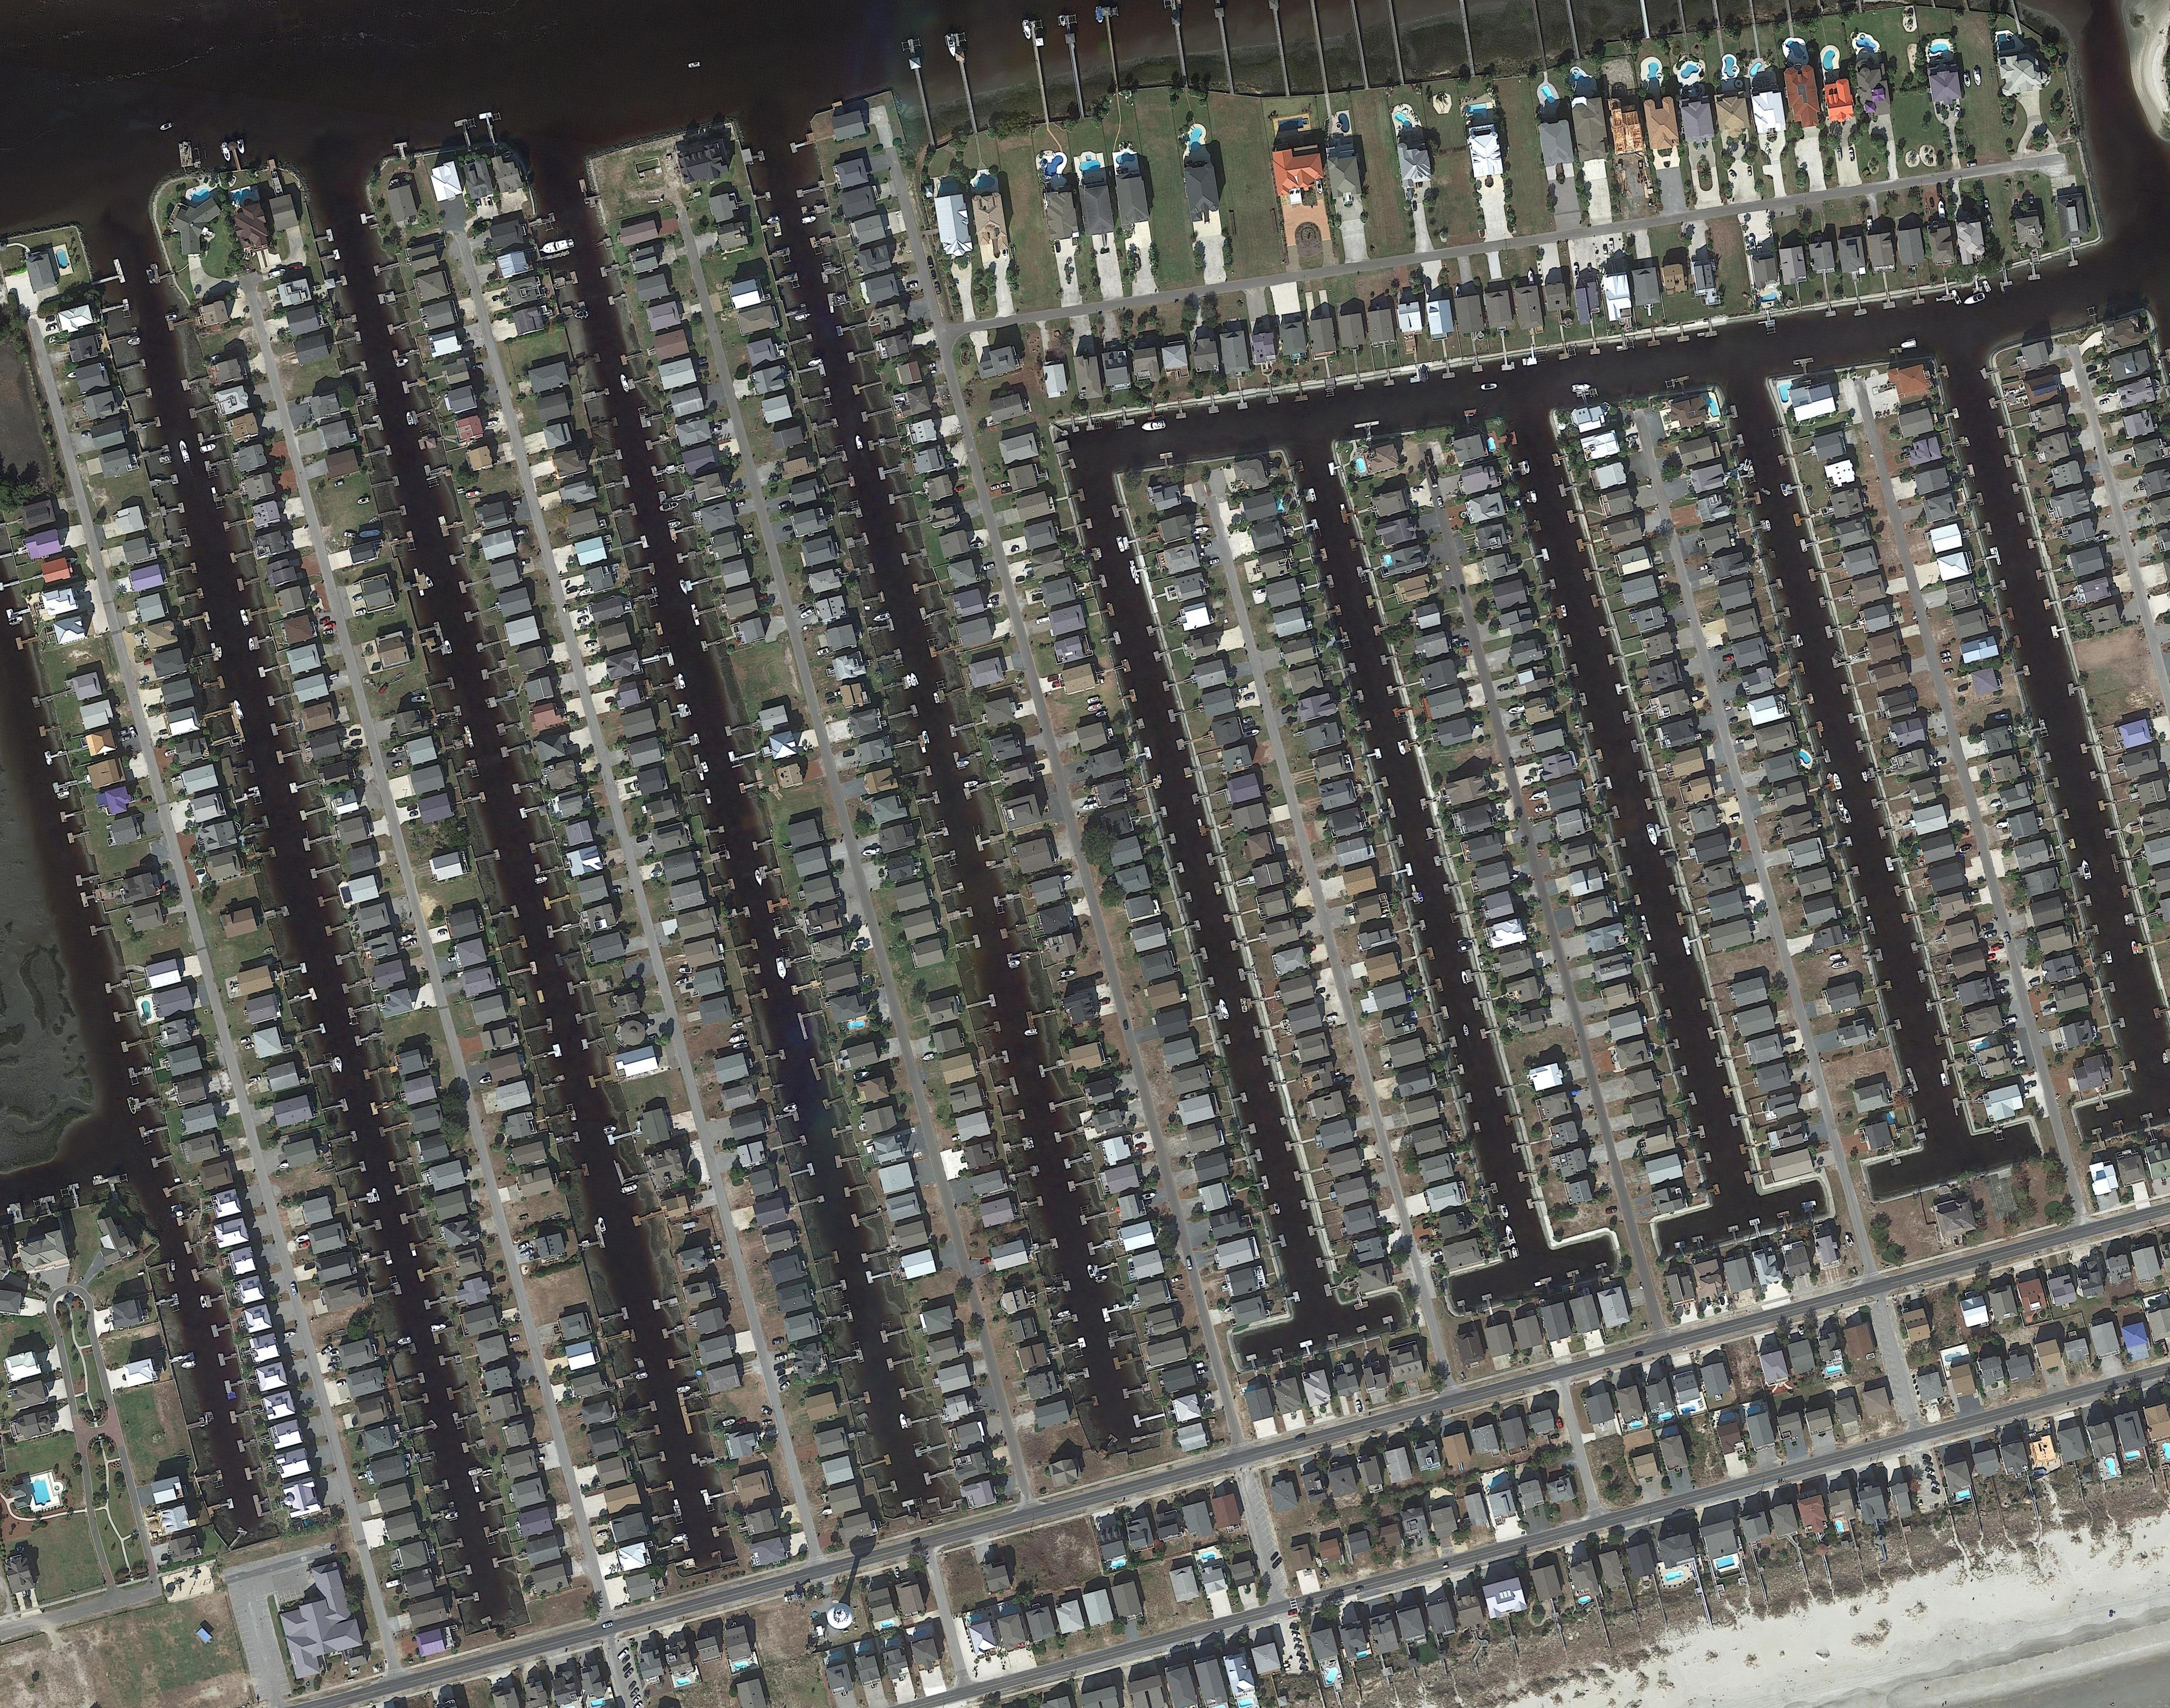harbor: (944, 32, 981, 127), (905, 39, 939, 141), (1059, 14, 1089, 102), (1029, 19, 1055, 114), (1162, 0, 1194, 77), (1212, 0, 1238, 90), (1101, 5, 1127, 88), (204, 701, 247, 752), (1268, 0, 1293, 85), (1349, 0, 1370, 88), (1309, 0, 1328, 90), (1386, 0, 1406, 85), (1458, 0, 1476, 76), (1531, 0, 1548, 70), (613, 1152, 648, 1187), (86, 259, 125, 291), (417, 622, 447, 660), (1564, 0, 1582, 60), (92, 1174, 125, 1203), (576, 1224, 606, 1254), (808, 1053, 837, 1081), (895, 734, 926, 759), (546, 917, 581, 939), (477, 111, 498, 146), (676, 1393, 694, 1435), (690, 599, 719, 625), (1027, 1007, 1059, 1030), (974, 829, 1006, 852), (361, 1248, 393, 1271), (347, 1002, 379, 1025), (1048, 1093, 1085, 1113), (32, 688, 69, 708), (641, 652, 675, 673), (1133, 1407, 1164, 1428), (523, 1018, 555, 1039), (923, 1465, 955, 1486), (439, 512, 465, 537), (150, 259, 176, 283), (824, 289, 851, 313), (148, 1263, 174, 1287), (513, 777, 541, 799), (481, 659, 509, 681), (963, 780, 993, 801), (935, 683, 965, 704), (210, 482, 240, 504), (287, 986, 317, 1007), (851, 1208, 881, 1229), (701, 1484, 731, 1506), (379, 287, 414, 305), (659, 1539, 690, 1558), (632, 1208, 664, 1227), (655, 1498, 682, 1521), (409, 1236, 437, 1257), (618, 1359, 646, 1380), (835, 319, 868, 336), (532, 1044, 562, 1064), (498, 935, 528, 954), (507, 961, 537, 981), (500, 741, 530, 761), (387, 1342, 417, 1361), (454, 118, 474, 148), (599, 1307, 629, 1326), (650, 458, 680, 477), (139, 1120, 169, 1139), (995, 1076, 1018, 1101), (472, 1470, 497, 1493), (225, 1527, 248, 1551), (888, 704, 919, 722), (227, 141, 245, 173), (107, 326, 139, 343), (310, 863, 342, 880), (303, 833, 335, 850), (916, 1440, 948, 1458), (690, 1449, 717, 1470), (122, 1035, 153, 1053), (974, 1020, 1002, 1039), (1103, 1303, 1131, 1322), (520, 803, 548, 822), (535, 858, 564, 877), (555, 947, 583, 967), (488, 688, 516, 708), (428, 676, 456, 696), (197, 428, 225, 447), (354, 1217, 382, 1236), (837, 1349, 865, 1368), (886, 1352, 914, 1372), (653, 676, 682, 696), (134, 1092, 162, 1111), (187, 1410, 215, 1430), (967, 995, 997, 1012), (1055, 1125, 1085, 1143), (902, 766, 932, 784), (953, 747, 983, 764), (1113, 1352, 1143, 1370), (444, 1564, 474, 1581), (396, 1372, 426, 1389), (181, 611, 211, 629), (116, 359, 146, 377), (289, 777, 319, 794), (379, 1120, 409, 1137), (329, 1130, 359, 1148), (907, 1412, 937, 1430), (861, 1454, 891, 1472), (861, 405, 891, 423), (852, 377, 882, 394), (631, 1425, 661, 1442), (627, 1400, 657, 1417), (657, 488, 687, 505), (224, 1377, 247, 1400), (868, 618, 895, 637), (919, 602, 946, 622), (898, 1382, 925, 1402), (789, 1162, 816, 1182), (551, 271, 578, 291), (622, 535, 648, 555), (611, 502, 638, 521), (1007, 947, 1039, 963), (955, 935, 983, 953), (410, 1419, 439, 1437), (491, 905, 520, 923), (528, 836, 557, 854), (542, 891, 571, 909), (497, 718, 525, 736), (150, 474, 178, 491), (181, 373, 210, 391), (338, 1160, 366, 1178), (373, 1284, 402, 1301), (370, 1097, 398, 1115), (798, 364, 826, 382), (847, 347, 875, 364), (810, 231, 838, 248), (724, 720, 752, 738), (1354, 421, 1383, 438), (1009, 1136, 1034, 1155), (916, 791, 941, 810), (410, 405, 435, 424), (424, 460, 449, 479), (324, 1097, 349, 1116), (417, 1263, 442, 1282), (689, 789, 713, 808), (252, 1493, 271, 1518), (1080, 1210, 1110, 1226), (1108, 1333, 1138, 1349), (414, 567, 430, 597), (354, 1030, 384, 1046), (868, 435, 898, 451), (796, 181, 826, 197), (1039, 1060, 1066, 1078), (949, 720, 976, 738), (882, 676, 909, 694), (1089, 1238, 1115, 1255), (336, 331, 363, 349), (393, 343, 419, 361), (417, 433, 444, 451), (403, 1393, 430, 1410), (432, 1502, 458, 1520), (229, 548, 255, 565), (136, 416, 162, 433), (234, 785, 261, 803), (349, 1192, 375, 1210), (400, 1208, 426, 1226), (312, 1060, 338, 1078), (299, 1023, 326, 1041), (342, 977, 368, 995), (264, 905, 291, 923), (828, 1310, 854, 1328), (819, 266, 845, 283), (601, 261, 627, 278), (669, 523, 696, 541), (53, 777, 79, 794), (1941, 1058, 1959, 1085), (197, 1469, 224, 1486), (1067, 1176, 1096, 1192), (993, 891, 1022, 907), (1934, 280, 1955, 301), (1636, 916, 1652, 944), (340, 361, 368, 377), (372, 475, 400, 491), (379, 505, 407, 521), (204, 456, 232, 472), (143, 444, 171, 460), (188, 403, 217, 419), (125, 387, 153, 403), (299, 805, 328, 821), (363, 1064, 391, 1079), (801, 202, 830, 218), (528, 213, 557, 229), (639, 1451, 668, 1467), (652, 1294, 680, 1310), (727, 747, 756, 762), (127, 1064, 155, 1079), (1811, 745, 1832, 766), (1534, 1277, 1555, 1298), (361, 416, 384, 435), (1400, 884, 1420, 907), (941, 882, 965, 900), (476, 849, 500, 866), (437, 704, 461, 722), (389, 530, 414, 548), (245, 604, 269, 622), (271, 718, 296, 736), (277, 747, 301, 764), (423, 1294, 447, 1312), (816, 1250, 840, 1268), (865, 1266, 889, 1284), (879, 1326, 904, 1344), (773, 923, 798, 940), (734, 937, 759, 954), (775, 1109, 800, 1127), (835, 1152, 860, 1169), (565, 1164, 590, 1182), (608, 1129, 632, 1146), (631, 562, 655, 579), (606, 475, 631, 493), (44, 747, 69, 764), (16, 632, 41, 650), (155, 1292, 180, 1310), (1131, 1430, 1161, 1444), (546, 1109, 576, 1123), (1997, 266, 2013, 292), (928, 643, 955, 659), (373, 261, 400, 276), (453, 1409, 479, 1425), (476, 637, 502, 653), (167, 315, 194, 331), (324, 921, 351, 937), (791, 979, 817, 995), (782, 1136, 808, 1152), (830, 475, 856, 491), (912, 579, 939, 595), (632, 586, 659, 602), (676, 548, 703, 563), (1904, 1067, 1920, 1093), (76, 872, 102, 887), (39, 1196, 58, 1217), (164, 1180, 185, 1199), (1339, 502, 1358, 523), (1804, 720, 1825, 740), (986, 1049, 1009, 1067), (454, 759, 477, 777), (252, 632, 275, 650), (238, 574, 261, 592), (232, 761, 255, 778), (203, 676, 225, 694), (247, 815, 269, 833), (588, 1071, 611, 1088), (823, 1093, 845, 1111), (879, 463, 902, 481), (808, 386, 831, 403), (727, 905, 750, 923), (662, 1322, 685, 1340), (7, 602, 30, 620), (217, 1349, 240, 1366), (1379, 798, 1397, 821), (1450, 907, 1472, 924), (100, 299, 129, 313), (925, 826, 949, 842), (1046, 1280, 1071, 1296), (877, 648, 902, 664), (461, 1437, 486, 1453), (479, 1497, 504, 1513), (440, 1537, 465, 1553), (461, 791, 486, 806), (432, 1328, 456, 1344), (268, 690, 292, 706), (387, 1157, 412, 1173), (284, 963, 308, 979), (335, 951, 359, 967), (581, 1034, 606, 1049), (844, 1182, 868, 1197), (889, 490, 914, 505), (895, 518, 919, 534), (562, 301, 587, 317), (668, 1354, 692, 1370), (620, 350, 645, 366), (701, 636, 726, 652), (576, 352, 601, 368), (685, 576, 710, 592), (599, 449, 624, 465), (646, 435, 671, 451), (639, 412, 664, 428), (113, 1007, 137, 1023), (1497, 431, 1518, 449), (1599, 805, 1620, 822), (1744, 1167, 1765, 1185), (1677, 1092, 1698, 1109), (1802, 1201, 1819, 1222), (199, 646, 220, 664), (784, 954, 810, 968), (761, 222, 782, 239), (766, 896, 787, 914), (583, 387, 609, 401), (231, 1407, 252, 1425), (211, 1321, 232, 1338), (1303, 518, 1321, 539), (1064, 1153, 1087, 1169), (1015, 1166, 1037, 1182), (1076, 1395, 1099, 1410), (1067, 1366, 1090, 1382), (1064, 1336, 1087, 1352), (2036, 565, 2059, 581), (387, 319, 410, 335), (447, 1384, 470, 1400), (491, 1553, 514, 1569), (370, 445, 393, 461), (567, 979, 590, 995), (576, 1009, 599, 1025), (439, 1352, 461, 1368), (174, 562, 197, 578), (849, 1391, 872, 1407), (824, 451, 847, 467), (840, 507, 863, 523), (863, 592, 886, 607), (712, 879, 734, 894), (652, 1481, 675, 1497), (67, 828, 90, 843), (932, 849, 956, 863), (1053, 1314, 1078, 1328), (1094, 1261, 1118, 1275), (444, 734, 469, 748), (224, 518, 248, 532), (317, 893, 342, 907), (861, 1248, 886, 1263), (823, 1280, 847, 1294), (798, 1196, 826, 1208), (796, 1012, 808, 1041), (542, 250, 571, 262), (606, 1329, 631, 1344), (673, 736, 697, 750), (627, 375, 652, 389), (60, 808, 85, 822), (69, 1183, 83, 1208), (171, 1351, 196, 1365), (1520, 347, 1538, 366), (1730, 1109, 1749, 1127), (1687, 1125, 1707, 1143), (1714, 1049, 1733, 1067), (1677, 909, 1696, 926), (1673, 375, 1693, 393), (1997, 423, 2017, 440), (2004, 451, 2024, 468), (2017, 509, 2036, 526), (2066, 680, 2085, 697), (1983, 548, 2001, 567), (359, 380, 377, 400), (1885, 854, 1904, 872), (1332, 625, 1349, 644), (1488, 1204, 1506, 1224), (1696, 322, 1717, 338), (1037, 1238, 1059, 1254), (1777, 1211, 1793, 1233), (2011, 479, 2033, 495), (1300, 1196, 1321, 1211), (1793, 357, 1814, 373), (458, 578, 479, 593), (259, 662, 280, 678), (171, 535, 192, 551), (255, 845, 277, 861), (742, 963, 763, 979), (749, 988, 770, 1004), (877, 1481, 898, 1497), (817, 417, 838, 433), (902, 549, 923, 565), (740, 778, 761, 794), (9, 1203, 25, 1224), (204, 1292, 225, 1308), (1518, 1167, 1539, 1183), (692, 755, 705, 782), (1002, 1109, 1025, 1123), (2064, 245, 2078, 268), (1464, 410, 1478, 433), (326, 275, 349, 289), (426, 1479, 449, 1493), (484, 1523, 507, 1537), (456, 1592, 479, 1606), (786, 303, 808, 317), (775, 273, 798, 287), (768, 247, 791, 261), (1906, 1118, 1929, 1132), (39, 724, 62, 738), (151, 1153, 174, 1167), (1147, 405, 1164, 423), (1758, 312, 1775, 329), (1090, 574, 1108, 592), (1214, 879, 1231, 896), (1113, 659, 1131, 676), (1532, 548, 1550, 565), (1760, 548, 1777, 565), (1819, 777, 1837, 794), (1418, 947, 1436, 965), (1317, 574, 1335, 592), (1432, 1005, 1450, 1023), (1103, 1433, 1118, 1453), (1538, 578, 1557, 593), (1585, 748, 1605, 764), (1576, 389, 1592, 409), (1723, 1083, 1742, 1099), (1640, 953, 1659, 968), (1989, 394, 2008, 410), (2112, 852, 2128, 872), (1325, 1282, 1344, 1298), (1268, 1234, 1288, 1250), (1286, 460, 1305, 475), (315, 229, 335, 245), (402, 379, 421, 394), (166, 502, 185, 518), (104, 979, 123, 995), (1952, 1097, 1967, 1116), (245, 1465, 264, 1481), (238, 1437, 257, 1453), (1841, 680, 1860, 696), (1856, 738, 1876, 754), (1504, 1111, 1524, 1127), (789, 333, 814, 345), (1501, 350, 1515, 372), (1154, 648, 1175, 662), (1853, 296, 1867, 317), (1124, 1386, 1145, 1400), (1293, 1167, 1314, 1182), (183, 588, 204, 602), (766, 1049, 787, 1064), (791, 139, 812, 153), (675, 1558, 696, 1572), (597, 417, 618, 431), (1901, 910, 1922, 924), (1832, 836, 1853, 850), (1052, 423, 1069, 438), (1111, 502, 1129, 518), (1122, 534, 1138, 551), (1293, 384, 1309, 401), (1129, 563, 1147, 579), (1192, 947, 1208, 965), (1147, 622, 1164, 637), (1245, 995, 1263, 1011), (1208, 1005, 1224, 1023), (1168, 706, 1185, 722), (1583, 565, 1601, 581), (1591, 592, 1608, 607), (1622, 710, 1640, 725), (1777, 451, 1795, 467), (1793, 511, 1811, 526), (1568, 507, 1585, 523), (1552, 451, 1569, 467), (1511, 461, 1527, 479), (1559, 481, 1576, 497), (1594, 777, 1612, 792), (1700, 995, 1717, 1011), (1654, 821, 1672, 836), (2050, 623, 2068, 639), (1254, 1174, 1270, 1192), (2121, 882, 2138, 898), (1976, 521, 1992, 539), (465, 607, 483, 623), (1878, 824, 1895, 840), (1934, 1028, 1950, 1046), (1911, 939, 1929, 954), (1925, 997, 1943, 1012), (192, 1266, 210, 1282), (1865, 766, 1883, 782), (1395, 863, 1413, 879), (1388, 833, 1404, 850), (1427, 979, 1444, 995), (1402, 738, 1420, 754), (1374, 622, 1391, 637), (1365, 593, 1383, 609), (1472, 995, 1490, 1011), (1809, 565, 1827, 581), (1781, 636, 1798, 652), (1798, 692, 1816, 708), (1647, 328, 1661, 347), (1222, 910, 1242, 924), (1881, 291, 1895, 310), (1025, 1196, 1044, 1210), (2026, 262, 2040, 282), (1229, 1092, 1249, 1106), (1284, 1137, 1303, 1152), (1638, 768, 1657, 782), (1645, 796, 1664, 810), (1749, 1218, 1763, 1238), (2043, 595, 2063, 609), (1307, 1222, 1326, 1236), (321, 250, 340, 264), (712, 1523, 731, 1537), (81, 889, 95, 909), (1893, 882, 1913, 896), (1874, 981, 1893, 995), (1871, 796, 1890, 810), (1363, 748, 1383, 762), (1434, 852, 1453, 866), (1443, 880, 1462, 894), (1393, 704, 1413, 718), (1386, 681, 1406, 696), (1379, 652, 1399, 666), (1848, 710, 1867, 724), (1511, 1139, 1531, 1153), (1495, 1083, 1515, 1097), (1480, 1025, 1499, 1039), (1236, 389, 1249, 410), (752, 838, 773, 850), (92, 923, 113, 935), (1159, 453, 1175, 468), (1069, 488, 1085, 504), (1099, 602, 1115, 618), (1238, 965, 1254, 981), (1185, 919, 1201, 935), (1252, 1023, 1268, 1039), (1207, 850, 1222, 866), (1122, 688, 1138, 704), (1106, 630, 1122, 646), (1564, 664, 1580, 680), (1557, 634, 1573, 650), (1576, 537, 1592, 553), (1631, 738, 1647, 754), (1525, 519, 1541, 535), (1800, 537, 1816, 553), (1746, 491, 1761, 507), (1707, 1025, 1723, 1041), (1730, 433, 1746, 449), (1300, 1340, 1316, 1356), (1247, 1148, 1263, 1164), (2015, 664, 2031, 680), (1969, 491, 1985, 507), (1982, 364, 1997, 380), (2140, 1113, 2156, 1129), (926, 1497, 942, 1513), (852, 532, 868, 548), (648, 622, 664, 637), (1860, 921, 1876, 937), (1867, 947, 1883, 963), (1918, 968, 1934, 984), (218, 1497, 234, 1513), (1349, 688, 1365, 704), (1312, 548, 1328, 563), (1825, 623, 1841, 639), (1790, 662, 1805, 678), (1832, 653, 1848, 669), (1566, 1270, 1582, 1285), (1265, 387, 1279, 405), (1076, 518, 1094, 532), (1168, 863, 1185, 877), (1199, 822, 1217, 836), (1143, 778, 1161, 792), (1177, 736, 1194, 750), (1162, 678, 1180, 692), (1911, 287, 1925, 305), (1599, 623, 1617, 637), (1694, 1152, 1712, 1166), (1656, 1009, 1673, 1023), (1649, 983, 1666, 997), (1682, 935, 1700, 949), (1624, 894, 1642, 909), (1610, 836, 1627, 850), (1326, 1333, 1340, 1351), (1316, 1254, 1333, 1268), (2008, 634, 2022, 652), (2112, 1118, 2126, 1136), (2152, 1005, 2170, 1020), (2137, 940, 2154, 954), (449, 551, 467, 565), (609, 292, 627, 306), (757, 865, 775, 879), (669, 706, 687, 720), (1851, 896, 1869, 910), (1885, 1020, 1902, 1034), (1372, 777, 1390, 791), (1420, 796, 1437, 810), (1409, 919, 1427, 933), (1774, 607, 1791, 622), (1481, 1292, 1495, 1310), (1455, 1092, 1472, 1106), (1615, 333, 1627, 352), (1407, 364, 1420, 384), (1268, 1079, 1288, 1092), (712, 1550, 724, 1569), (1120, 409, 1134, 424), (1060, 458, 1076, 472), (1085, 548, 1099, 563), (1441, 363, 1455, 379), (1177, 891, 1192, 905), (1199, 975, 1215, 990), (1215, 1034, 1231, 1048), (1261, 1053, 1277, 1067), (1161, 833, 1177, 847), (1192, 791, 1208, 805), (1138, 747, 1152, 762), (1000, 926, 1016, 940), (1548, 607, 1564, 622), (1608, 652, 1624, 666), (1615, 681, 1631, 696), (1573, 692, 1587, 708), (1578, 722, 1594, 736), (1786, 481, 1802, 495), (1753, 519, 1768, 534), (1705, 1183, 1721, 1197), (1691, 1234, 1705, 1250), (1728, 1224, 1742, 1240), (1672, 1065, 1687, 1079), (1668, 882, 1684, 896), (1245, 1354, 1259, 1370), (1272, 1349, 1286, 1365), (1353, 1296, 1369, 1310), (2105, 826, 2121, 840), (2031, 718, 2047, 733), (1999, 607, 2015, 622), (2128, 912, 2144, 926), (1952, 435, 1967, 449), (2036, 752, 2052, 766), (2045, 777, 2061, 791), (2054, 808, 2070, 822), (2070, 866, 2085, 880), (2077, 894, 2092, 909), (2091, 1127, 2105, 1143), (395, 1182, 410, 1196), (831, 1125, 847, 1139), (902, 1498, 916, 1514), (860, 563, 875, 578), (1298, 488, 1312, 504), (185, 1240, 201, 1254), (1427, 826, 1443, 840), (1356, 720, 1372, 734), (1326, 604, 1342, 618), (1349, 537, 1365, 551), (1465, 968, 1481, 983), (1594, 1263, 1610, 1277), (1768, 578, 1784, 592), (1527, 1196, 1543, 1210), (1483, 1182, 1499, 1196), (1450, 1064, 1465, 1078), (1443, 1035, 1458, 1049), (1677, 326, 1689, 343), (1353, 373, 1365, 391), (1471, 356, 1483, 373), (1383, 368, 1395, 386), (1240, 1123, 1258, 1136), (1663, 1039, 1680, 1051), (2087, 306, 2100, 324), (1383, 1315, 1395, 1333), (562, 1132, 579, 1145), (1842, 866, 1860, 879), (1458, 935, 1476, 947), (705, 826, 724, 836), (1154, 806, 1168, 821), (1518, 491, 1532, 505), (1619, 865, 1633, 879), (2027, 535, 2041, 549), (1286, 1291, 1300, 1305), (1994, 579, 2008, 593), (1962, 465, 1976, 479), (1888, 347, 1902, 361), (2094, 1097, 2108, 1111), (1328, 461, 1342, 475), (1342, 662, 1356, 676), (1207, 398, 1219, 414), (1175, 403, 1187, 419), (1557, 343, 1569, 359), (1229, 939, 1245, 951), (1184, 766, 1199, 778), (1129, 718, 1145, 731), (1973, 278, 1985, 294), (1738, 1143, 1754, 1155), (1675, 1241, 1687, 1257), (2080, 741, 2096, 754), (2091, 769, 2107, 782), (2098, 799, 2114, 812), (1356, 1326, 1369, 1342), (1945, 409, 1960, 421), (2100, 983, 2115, 995), (361, 211, 377, 224), (756, 192, 771, 204), (1356, 565, 1372, 578), (1085, 414, 1096, 431), (1825, 303, 1837, 317), (960, 907, 974, 919), (1726, 405, 1738, 419), (1261, 1204, 1275, 1217), (1936, 364, 1948, 379), (2063, 838, 2077, 850), (2085, 924, 2100, 937), (2092, 953, 2107, 965), (2112, 1018, 2126, 1030), (2122, 1060, 2137, 1072), (481, 1616, 493, 1631), (752, 151, 766, 164), (1888, 1152, 1901, 1166), (176, 1215, 190, 1227), (1819, 595, 1834, 607), (579, 180, 588, 199), (1281, 1115, 1296, 1125), (342, 313, 358, 324), (1071, 416, 1080, 433), (719, 850, 731, 863), (1591, 342, 1601, 356), (1457, 1299, 1467, 1314), (1501, 1250, 1513, 1261), (1499, 1236, 1509, 1248), (1659, 847, 1673, 856)
ship: (539, 239, 574, 255), (1217, 997, 1231, 1020), (232, 699, 247, 720), (1964, 292, 1987, 305), (775, 956, 787, 979), (1645, 824, 1657, 847), (2080, 858, 2092, 880), (178, 438, 190, 461), (1140, 421, 1166, 431), (1502, 1226, 1517, 1245), (1832, 771, 1844, 792), (659, 500, 680, 512), (946, 33, 956, 58), (1569, 382, 1592, 393), (852, 1069, 872, 1081), (727, 1034, 747, 1046), (268, 266, 287, 278), (127, 1095, 139, 1115), (220, 141, 231, 162), (1531, 791, 1548, 803), (576, 586, 594, 599), (794, 310, 812, 322), (669, 1532, 687, 1544), (1899, 338, 1918, 349), (1508, 706, 1527, 717), (1830, 960, 1849, 970), (620, 373, 631, 393), (620, 1183, 639, 1194), (240, 607, 250, 627), (199, 444, 218, 454), (860, 849, 882, 858), (359, 530, 382, 539), (800, 607, 816, 620), (396, 931, 412, 944), (1937, 199, 1946, 220), (678, 578, 689, 595), (1022, 19, 1030, 40), (807, 357, 824, 368), (465, 490, 483, 500), (428, 1322, 446, 1333), (333, 1056, 343, 1074), (1974, 67, 1983, 86), (1059, 968, 1078, 977), (754, 868, 763, 887), (872, 613, 891, 622), (1952, 289, 1962, 305), (1085, 1263, 1096, 1278), (1842, 808, 1853, 824), (2092, 532, 2108, 542), (1957, 843, 1973, 854), (236, 139, 247, 155), (597, 1217, 608, 1233), (477, 1076, 493, 1086), (410, 694, 426, 704), (395, 357, 410, 368), (396, 1335, 412, 1345), (467, 1467, 483, 1477), (282, 1329, 298, 1340), (1962, 70, 1971, 88), (1192, 526, 1210, 535), (1055, 1310, 1073, 1319), (1140, 1192, 1157, 1201), (1057, 873, 1074, 882), (146, 268, 155, 285), (1115, 535, 1124, 553), (1939, 1072, 1950, 1086), (159, 121, 173, 132), (424, 574, 435, 588), (164, 748, 178, 759), (1244, 729, 1259, 738), (1399, 740, 1407, 755), (1240, 997, 1249, 1012), (1501, 1203, 1509, 1218), (1094, 1273, 1110, 1282), (1081, 803, 1097, 812), (1085, 704, 1101, 713), (955, 761, 971, 769), (1184, 1092, 1199, 1101), (1106, 873, 1122, 882), (1529, 488, 1538, 504), (782, 1104, 798, 1113), (602, 1125, 618, 1134), (673, 977, 689, 986), (534, 875, 550, 884), (678, 674, 687, 690), (911, 671, 919, 687), (1036, 616, 1052, 625), (856, 433, 865, 449), (801, 215, 817, 224), (676, 1384, 692, 1393), (405, 410, 414, 426), (294, 1234, 310, 1243), (372, 1187, 380, 1203), (1383, 1060, 1395, 1071), (669, 519, 682, 530), (821, 1507, 835, 1516), (1460, 970, 1469, 984), (1527, 271, 1536, 285), (900, 1412, 907, 1430), (722, 1417, 736, 1426), (921, 1053, 935, 1062), (1023, 1028, 1037, 1037), (1087, 696, 1101, 704), (1522, 460, 1531, 474), (731, 1021, 745, 1030), (816, 648, 830, 657), (484, 419, 498, 428), (766, 215, 780, 224), (701, 761, 710, 775), (1096, 5, 1103, 23), (247, 637, 255, 652), (444, 639, 453, 653), (391, 745, 405, 754), (9, 616, 23, 625), (356, 497, 370, 505), (180, 1361, 197, 1368), (1316, 178, 1323, 194), (733, 1042, 749, 1049), (2131, 940, 2138, 956), (963, 780, 979, 787), (199, 1294, 206, 1310), (1983, 280, 1992, 292), (1325, 1014, 1337, 1023), (1844, 1234, 1853, 1247), (278, 1162, 291, 1171), (983, 562, 995, 571), (1000, 248, 1009, 261), (636, 1372, 648, 1380), (56, 791, 69, 799), (463, 725, 472, 738), (595, 1532, 608, 1541), (169, 775, 181, 784), (1464, 1023, 1471, 1037), (1749, 236, 1756, 250), (1094, 711, 1108, 718), (1744, 919, 1758, 926), (1837, 798, 1844, 812), (2105, 949, 2112, 963), (1781, 482, 1788, 497), (1744, 458, 1751, 472), (65, 372, 79, 379), (923, 731, 930, 745), (127, 338, 141, 345), (574, 312, 588, 319), (678, 967, 692, 974), (683, 703, 690, 717), (969, 542, 983, 549), (905, 674, 912, 688), (1480, 384, 1497, 389), (1760, 488, 1770, 497), (368, 516, 379, 525), (1273, 1203, 1281, 1215), (1511, 1247, 1518, 1259), (1455, 285, 1462, 298), (1009, 960, 1022, 967), (1561, 604, 1568, 616), (2122, 914, 2129, 926), (166, 313, 178, 320), (1000, 486, 1013, 493), (934, 692, 941, 704), (194, 870, 206, 877), (1573, 264, 1578, 280), (497, 1680, 504, 1690), (1862, 771, 1869, 782), (694, 734, 701, 745), (1060, 14, 1066, 28), (999, 481, 1009, 488), (990, 484, 1000, 491), (467, 738, 474, 748), (689, 62, 701, 67), (953, 486, 965, 491), (217, 646, 222, 659), (1730, 815, 1740, 821), (1767, 519, 1772, 530), (2163, 1053, 2168, 1064), (782, 526, 793, 532), (1994, 715, 2008, 718)
